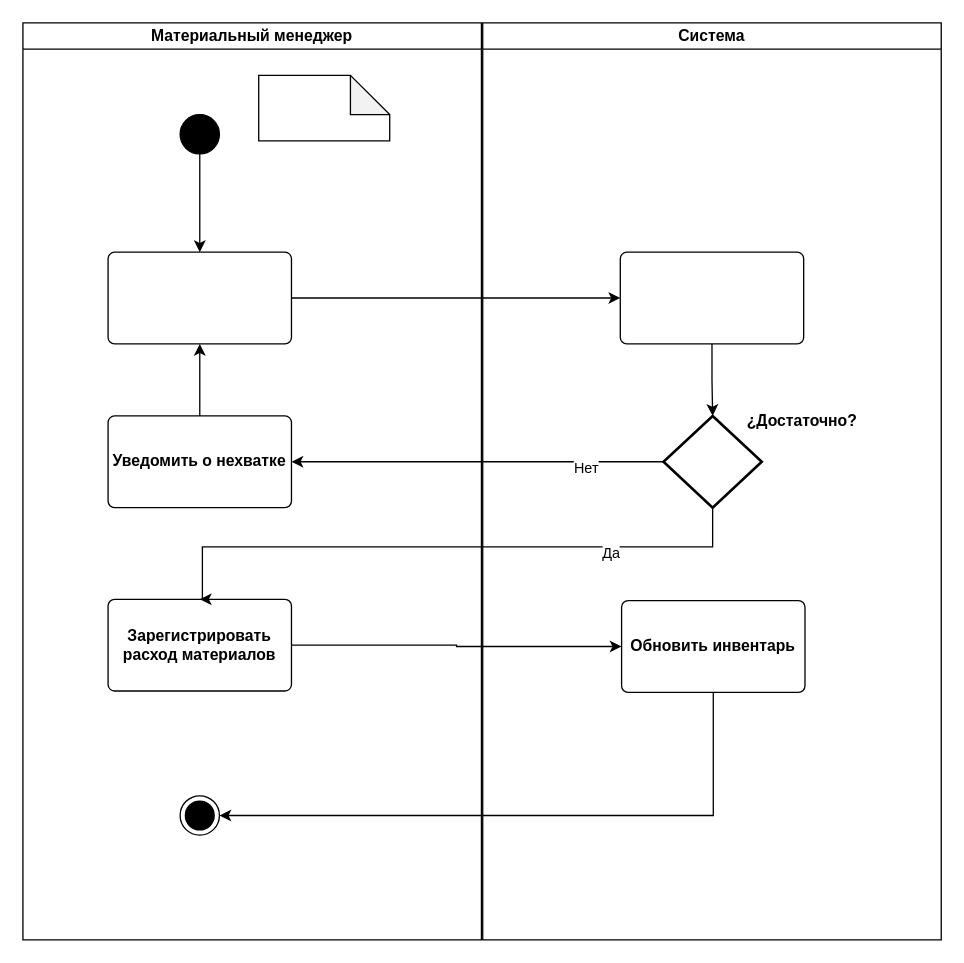
This 964x963 diagram has some shape labels left out. Each missing label, with the centre of its shape:
"Назначить материалы работнику" belongs at (x=199, y=297).
"Проверить наличие на складе" belongs at (x=711, y=297).
"Тикет закрыт" belongs at (x=323, y=107).
